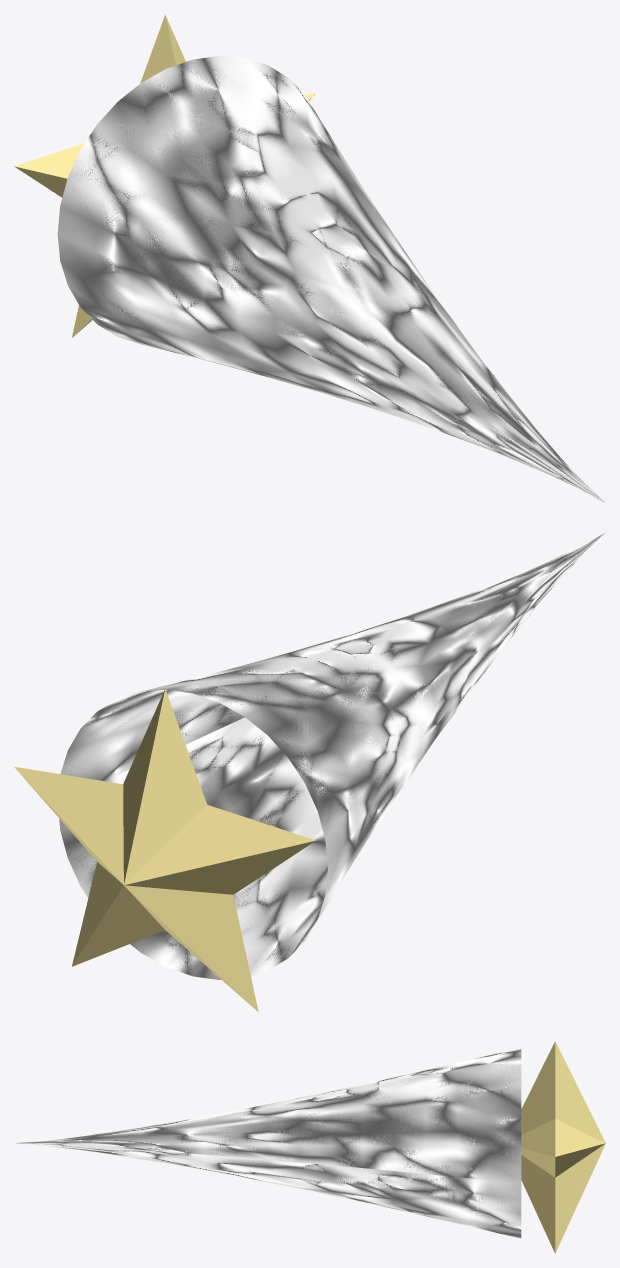
The model's file is Meteor.fbx.
3 renders of one model, top to bottom at view 1: azimuth 30°, elevation 25°; view 2: azimuth 150°, elevation 25°; view 3: azimuth 270°, elevation 25°, orthographic. The views are drawn at different scales.
Visible parts, largest first — view 1: MeteorTail, Meteor; view 2: MeteorTail, Meteor; view 3: MeteorTail, Meteor.
Boxes of the visible parts, left/top/right/bottom form: MeteorTail: left=57, top=56, right=604, bottom=502; Meteor: left=14, top=15, right=315, bottom=337; MeteorTail: left=59, top=533, right=604, bottom=979; Meteor: left=14, top=689, right=315, bottom=1011; MeteorTail: left=15, top=1047, right=521, bottom=1238; Meteor: left=521, top=1041, right=605, bottom=1253.
Bounding box in the file's own units: 1.9 × 1.85 × 5.25.
2 materials, 1 textured.
